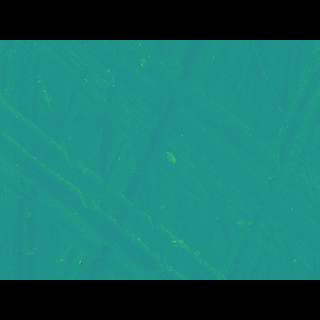Loch: (16, 83, 308, 241)
